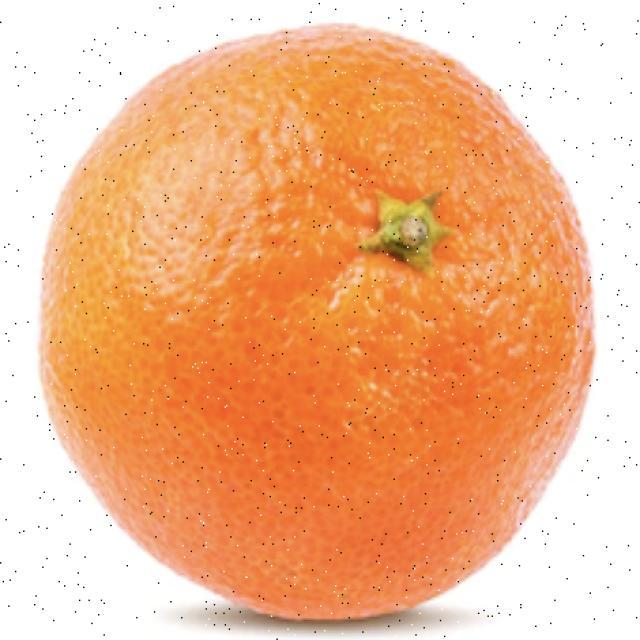Orange: (38, 21, 596, 622)
